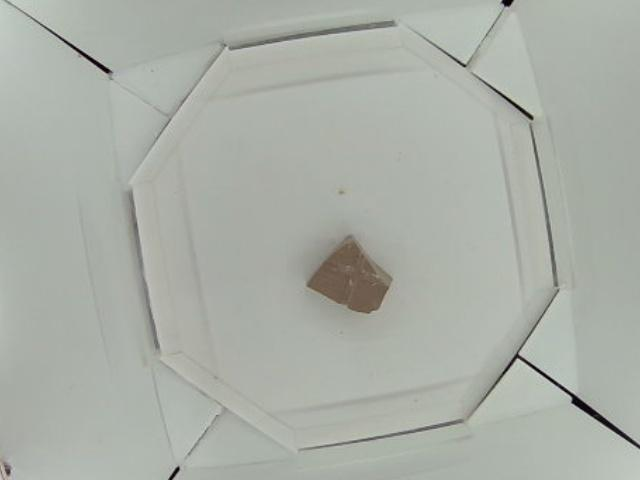China: (306, 235, 391, 314)
